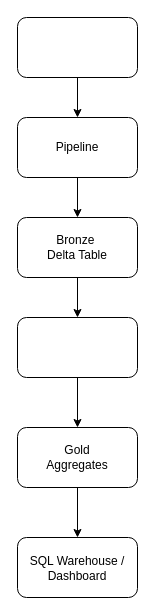
This 155x615 diagram has some shape labels left out. The shapes that lost their labels are listed below. From the top down, each one's box as (x1, y1, x2, y2) in pixels, then its label:
(16, 16, 138, 78): Source (Parquet)
(16, 316, 138, 378): Silver Delta Table
